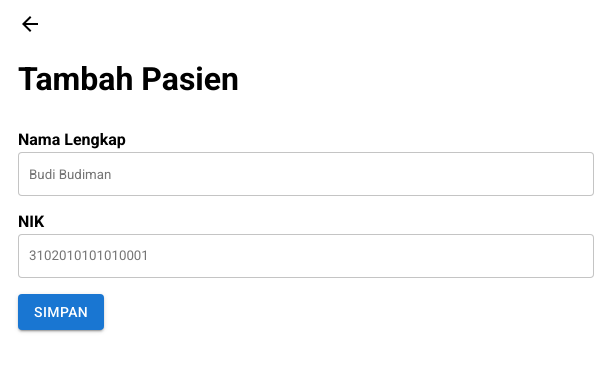
Test: <PatientForm/> › invalidate non-numeric nik field
Type "abcdefg" into the field labelled "NIK" at {"x": 306, "y": 256}, box [18,234,594,278]
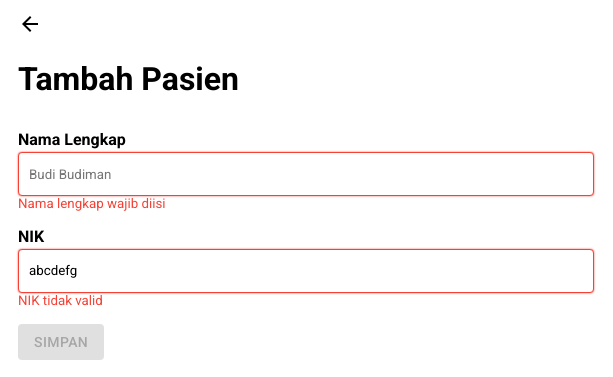
Check: the text "NIK tidak valid" is shown, box [18,293,103,308]
